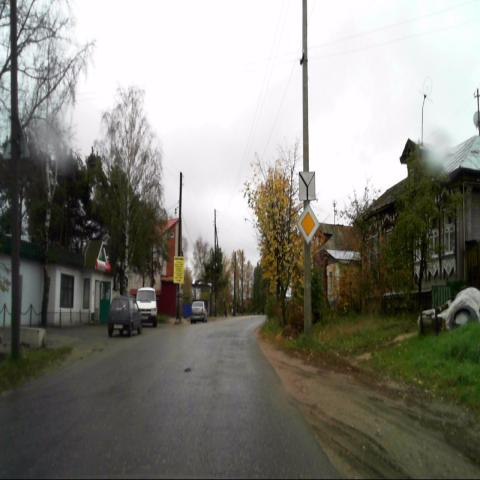2_1: (298, 202, 320, 244)
